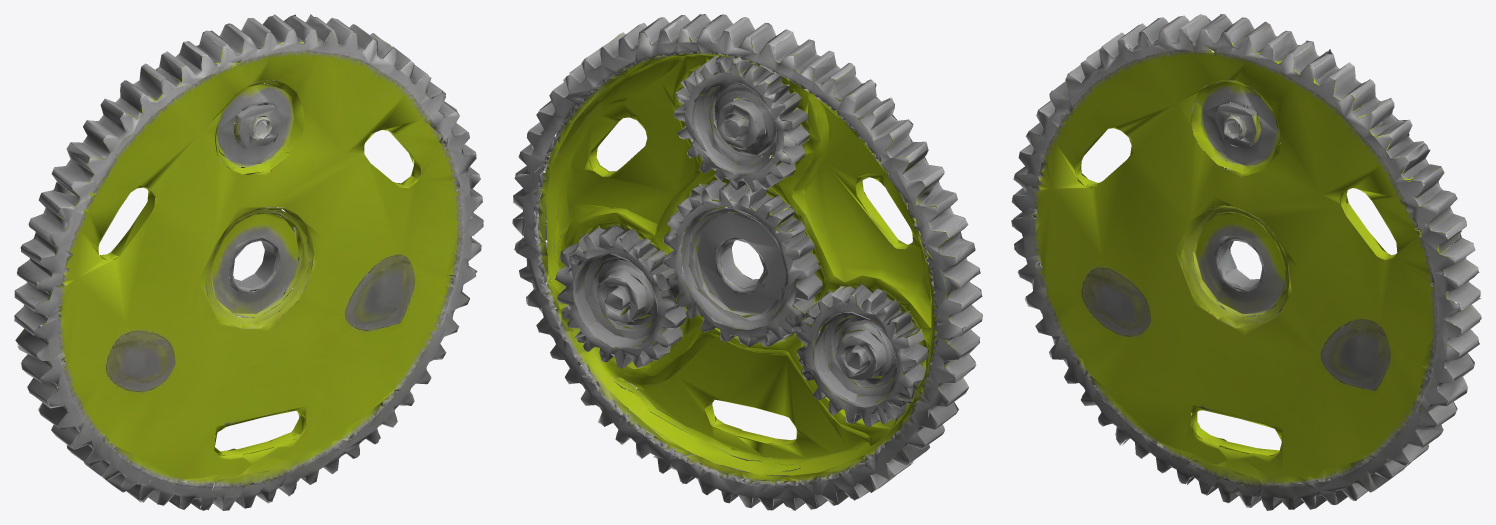
File: tool-systems.glb
The picture shows the model from 3 angles, left to right: view 1: azimuth 30°, elevation 25°; view 2: azimuth 150°, elevation 25°; view 3: azimuth 330°, elevation 25°; orthographic projection.
Visible parts, largest first — view 1: Mesh_0; view 2: Mesh_0; view 3: Mesh_0.
Part boxes in pixels (x1=…): Mesh_0: x1=14, y1=14, x2=483, y2=510; Mesh_0: x1=512, y1=14, x2=982, y2=510; Mesh_0: x1=1011, y1=14, x2=1481, y2=510.
Size of the model in its own units: 0.9987 by 1 by 0.1115.
1 material, 1 textured.
